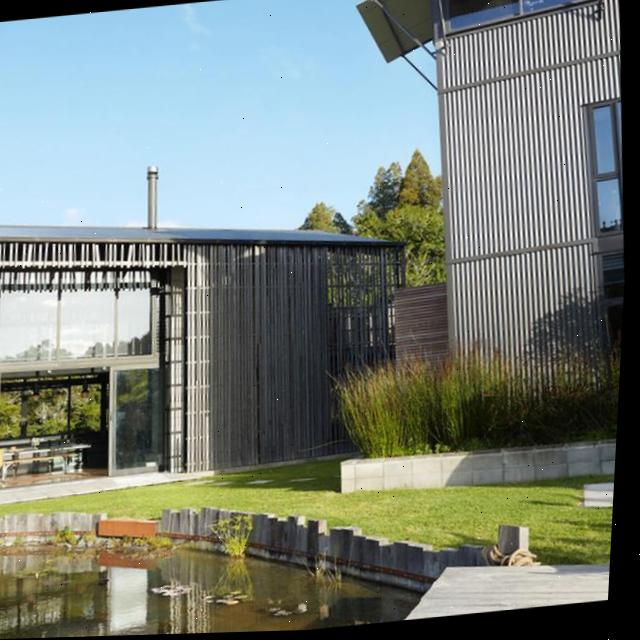building: (0, 176, 420, 510), (332, 0, 640, 417)
